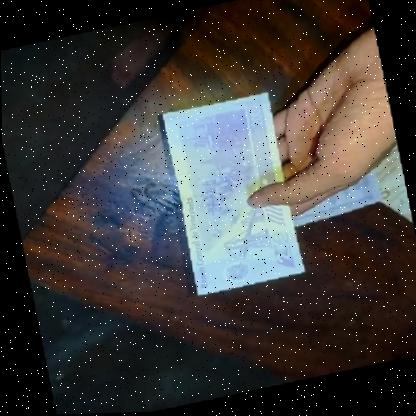two_hundred-back-vef: (160, 90, 305, 299)
